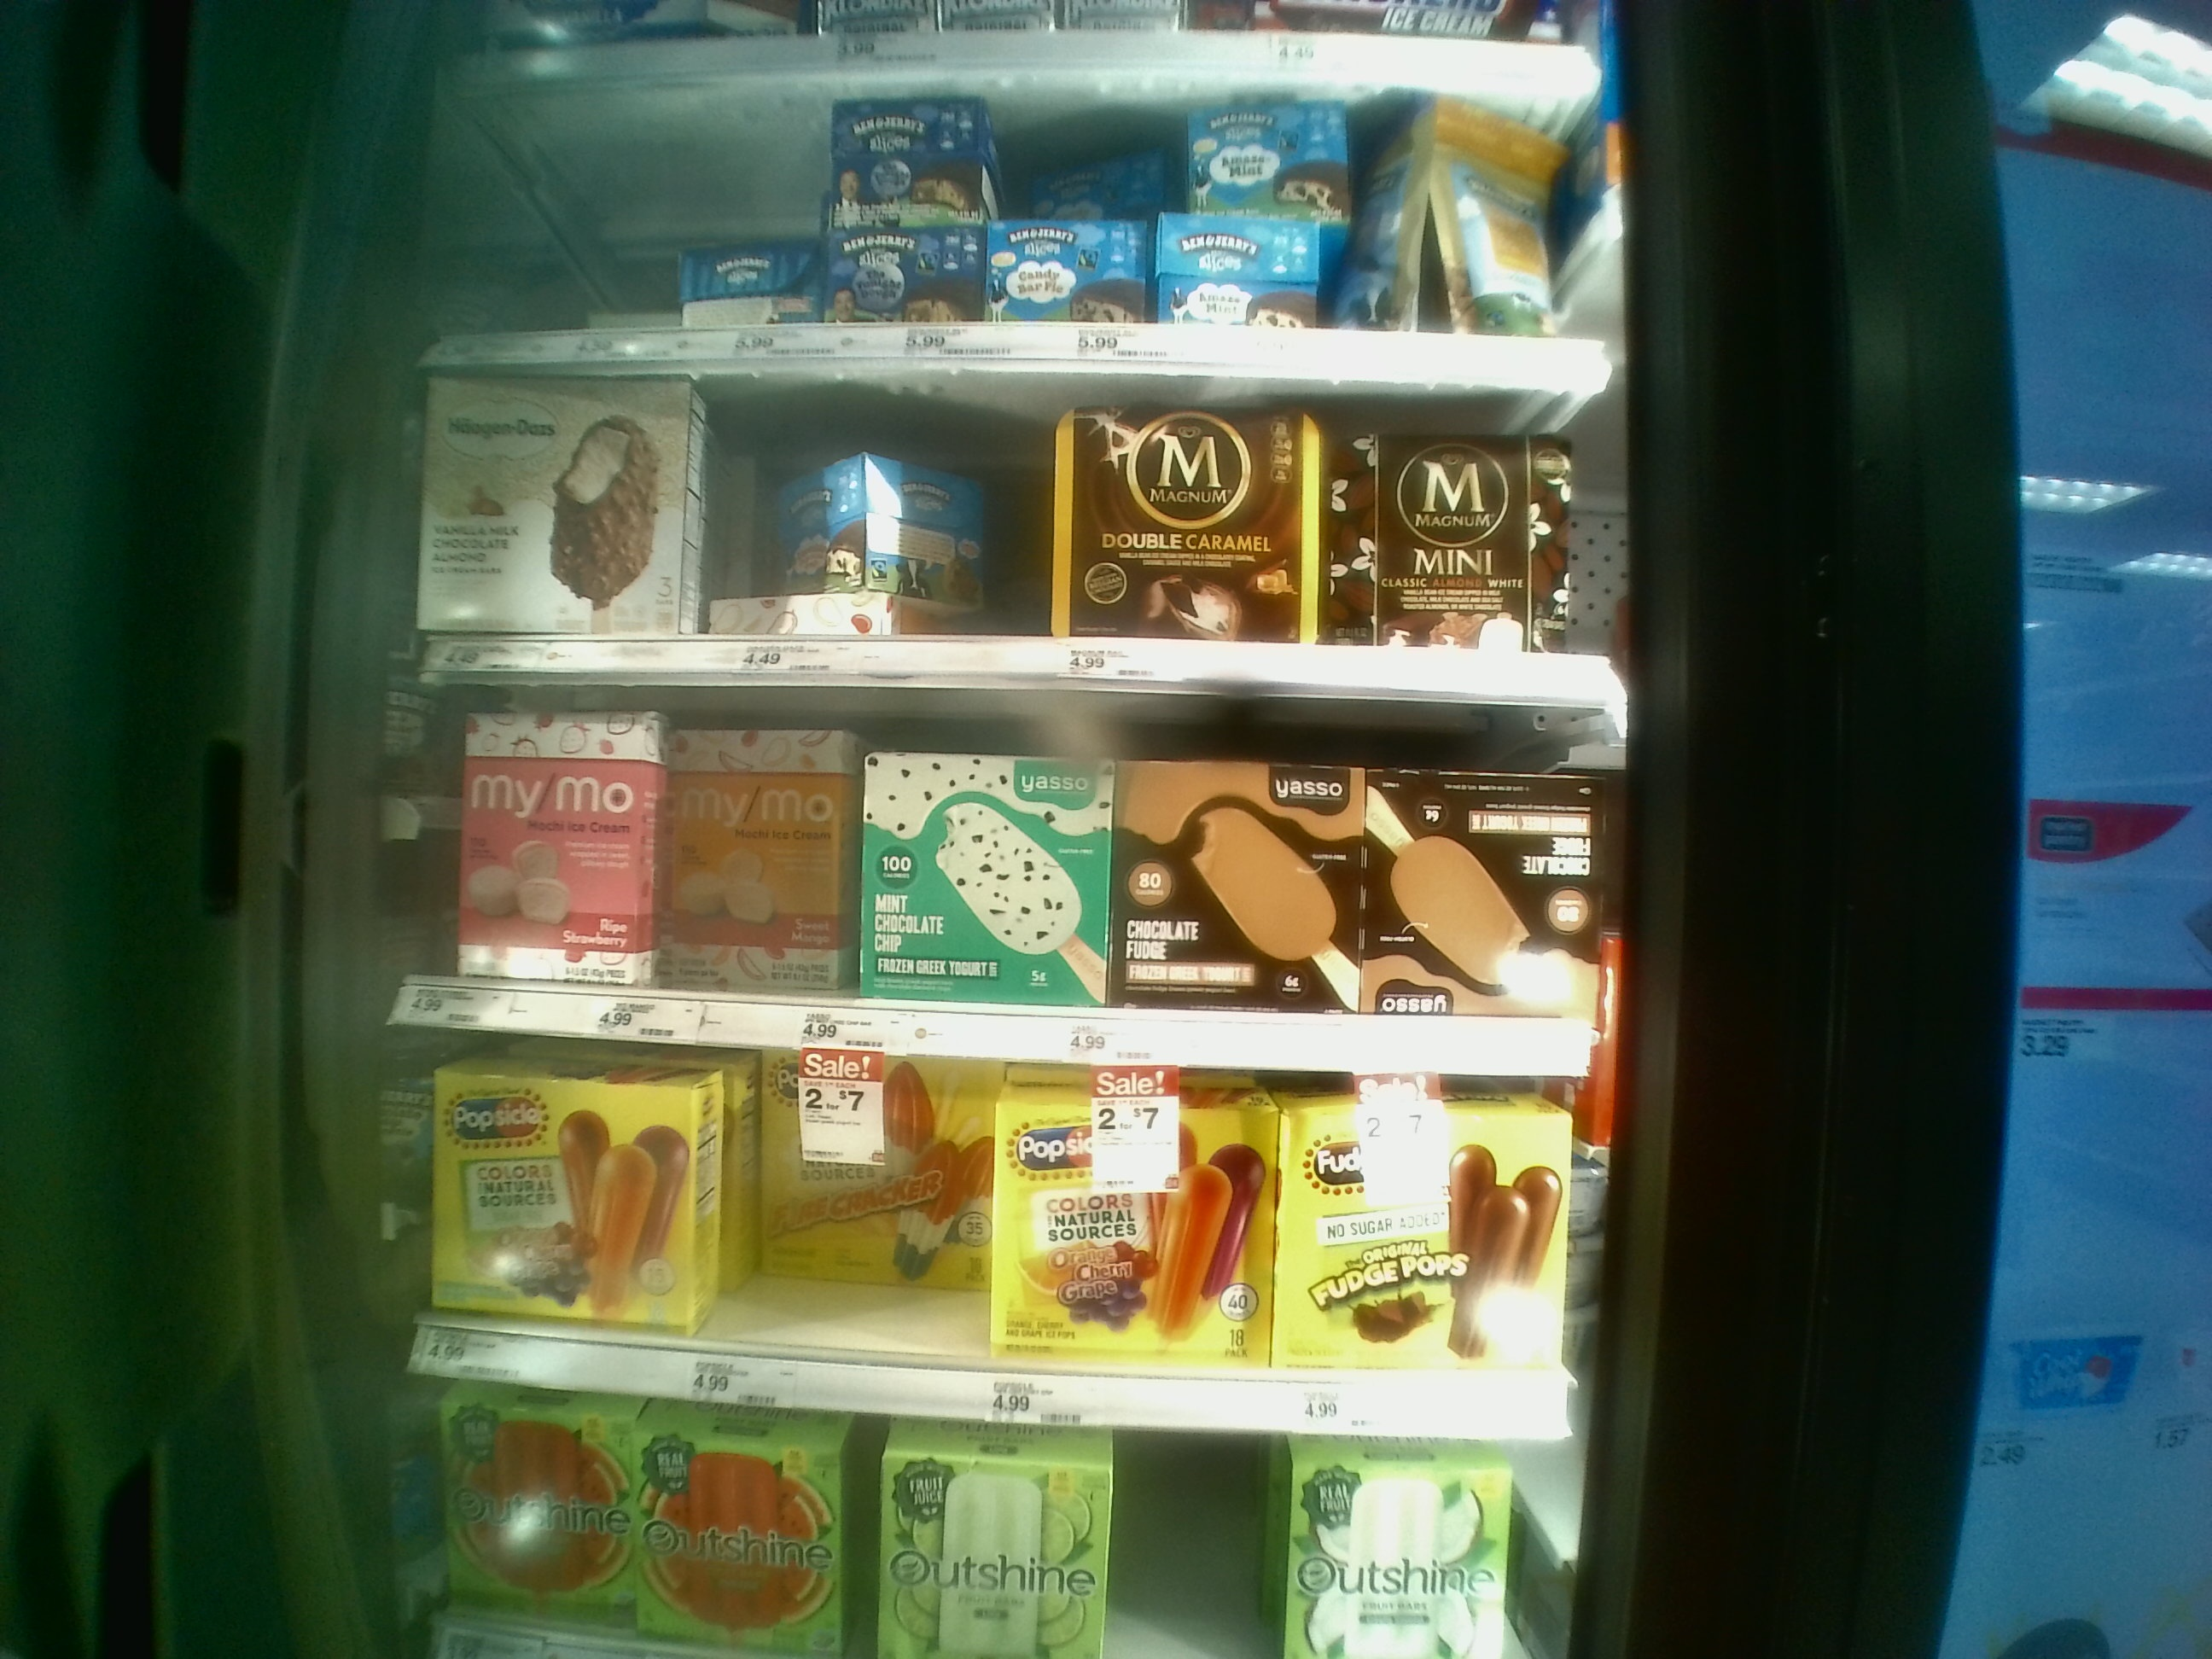ice-cream-shelf: (394, 1044, 1609, 1441), (387, 694, 1644, 1070), (411, 375, 1618, 692), (411, 89, 1629, 375)
